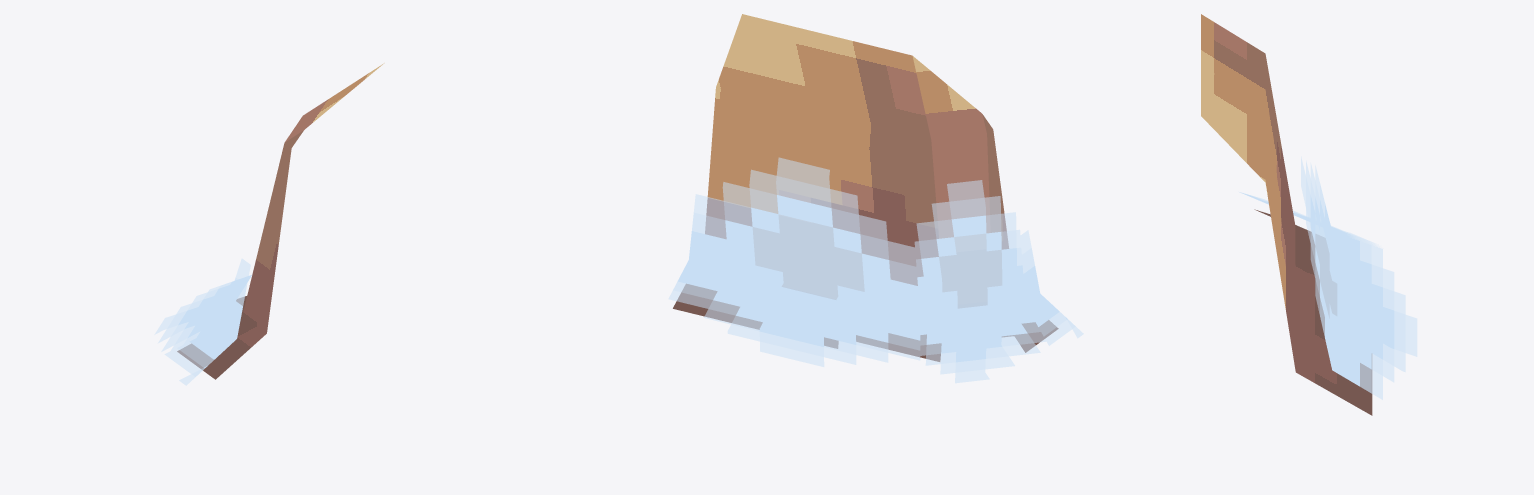
3 renders of one model, left to right at view 1: azimuth 30°, elevation 25°; view 2: azimuth 150°, elevation 25°; view 3: azimuth 270°, elevation 25°, orthographic. The views are drawn at different scales.
Size of the model in its own units: 1.05 by 0.6892 by 0.5459.
Materials: 2 (2 with a texture image).
